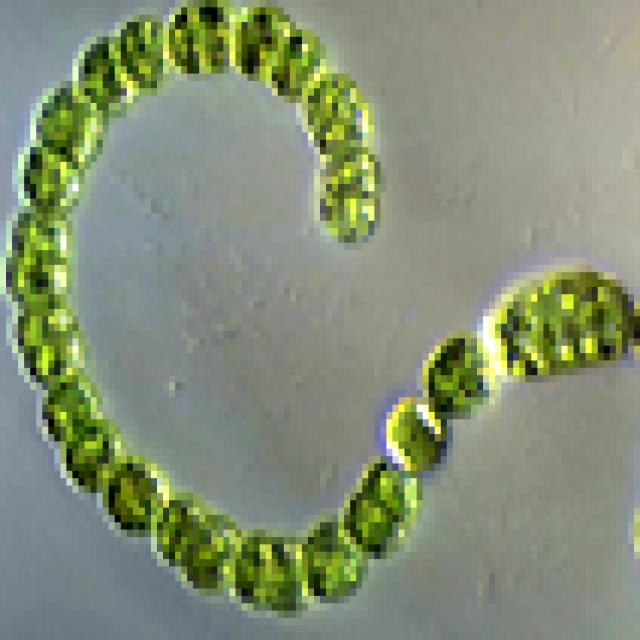Blue Green Algae: (229, 530, 308, 618), (296, 515, 368, 611), (338, 471, 411, 559), (30, 81, 109, 162), (423, 331, 489, 427), (302, 73, 368, 162), (163, 7, 235, 81), (374, 397, 441, 471), (187, 507, 242, 596), (18, 140, 85, 213), (103, 456, 163, 537), (229, 8, 296, 74), (72, 30, 127, 110), (314, 184, 380, 250), (60, 427, 121, 493), (36, 375, 103, 434), (115, 8, 163, 88), (266, 29, 314, 103), (6, 250, 72, 302), (6, 206, 72, 257), (24, 323, 79, 382), (308, 147, 380, 191), (157, 486, 199, 559), (18, 294, 79, 331)
